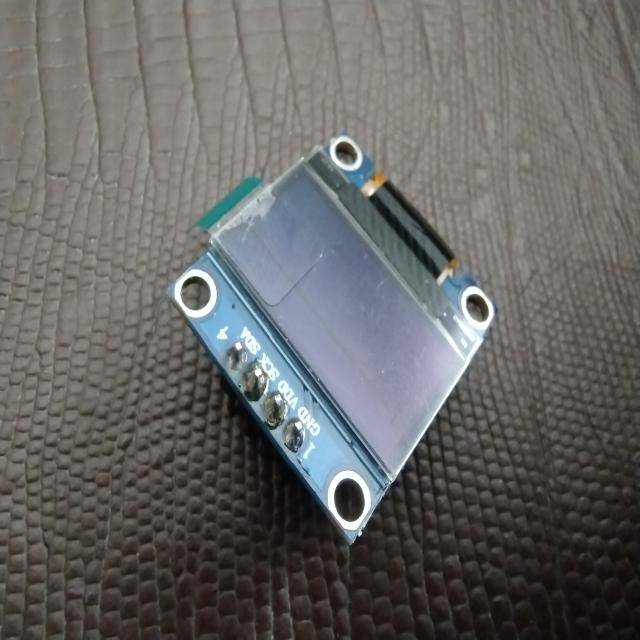oled: (168, 123, 500, 565)
